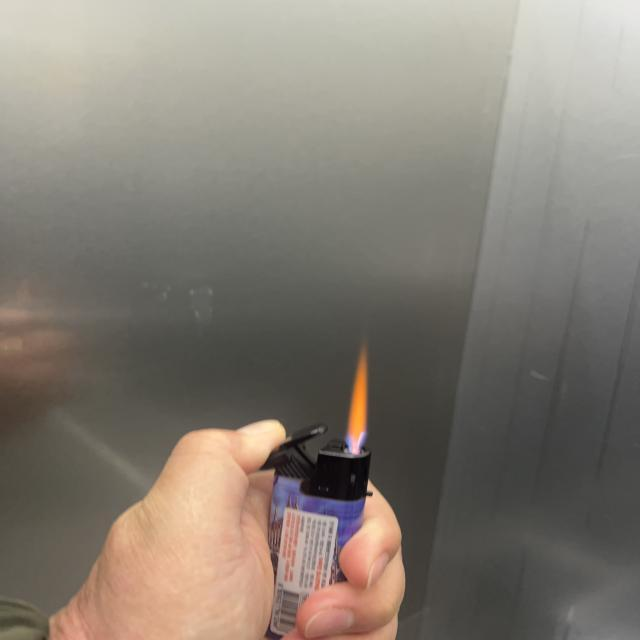fire: (342, 346, 372, 450)
